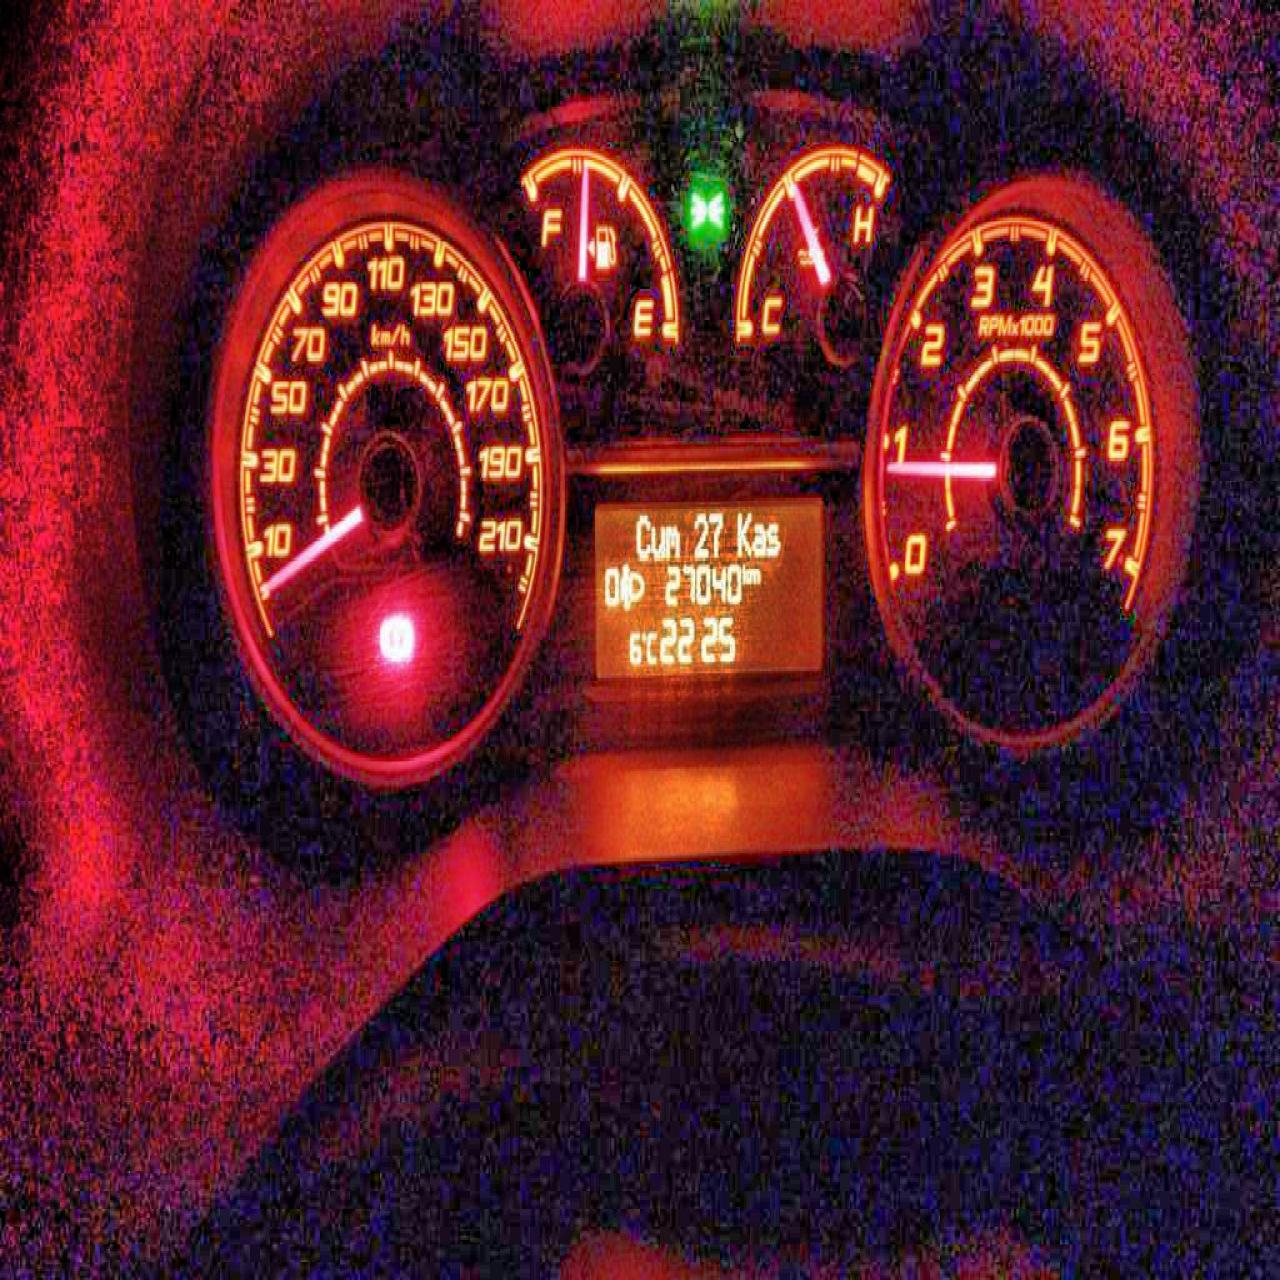0: (602, 565, 619, 605), (695, 561, 710, 602), (727, 561, 742, 602)
2: (699, 613, 717, 662), (658, 615, 676, 662), (676, 613, 694, 662), (693, 511, 708, 558), (663, 561, 679, 602)
4: (710, 561, 726, 602)
5: (719, 613, 734, 662)
6: (627, 628, 641, 665)
7: (708, 511, 722, 558), (681, 561, 695, 602)
X: (735, 509, 751, 556), (635, 513, 651, 560), (665, 523, 679, 558), (751, 520, 765, 556), (765, 520, 779, 556), (651, 524, 665, 558), (645, 628, 658, 665), (749, 565, 760, 583), (741, 563, 749, 585)
odometer: (588, 493, 826, 675)
